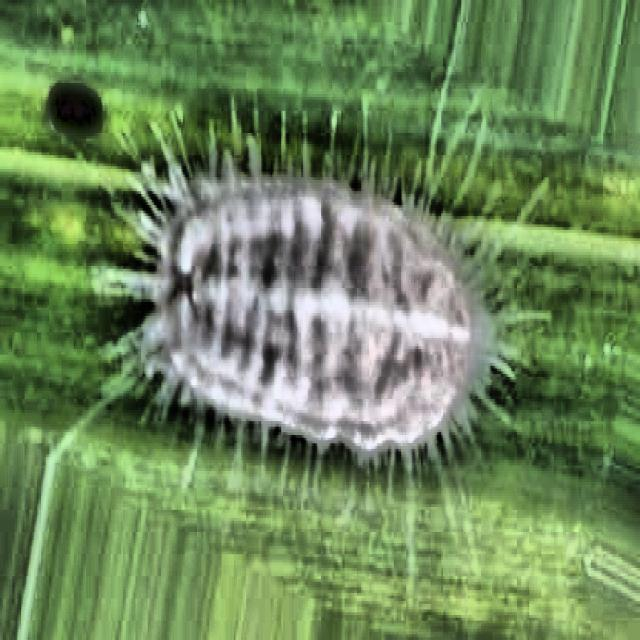Mealy-bug: (101, 95, 532, 497)
